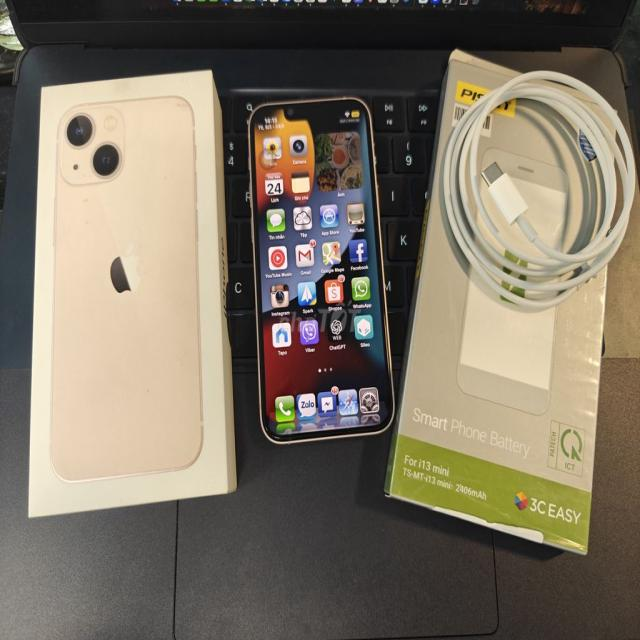gen_12_13: (241, 90, 398, 448)
